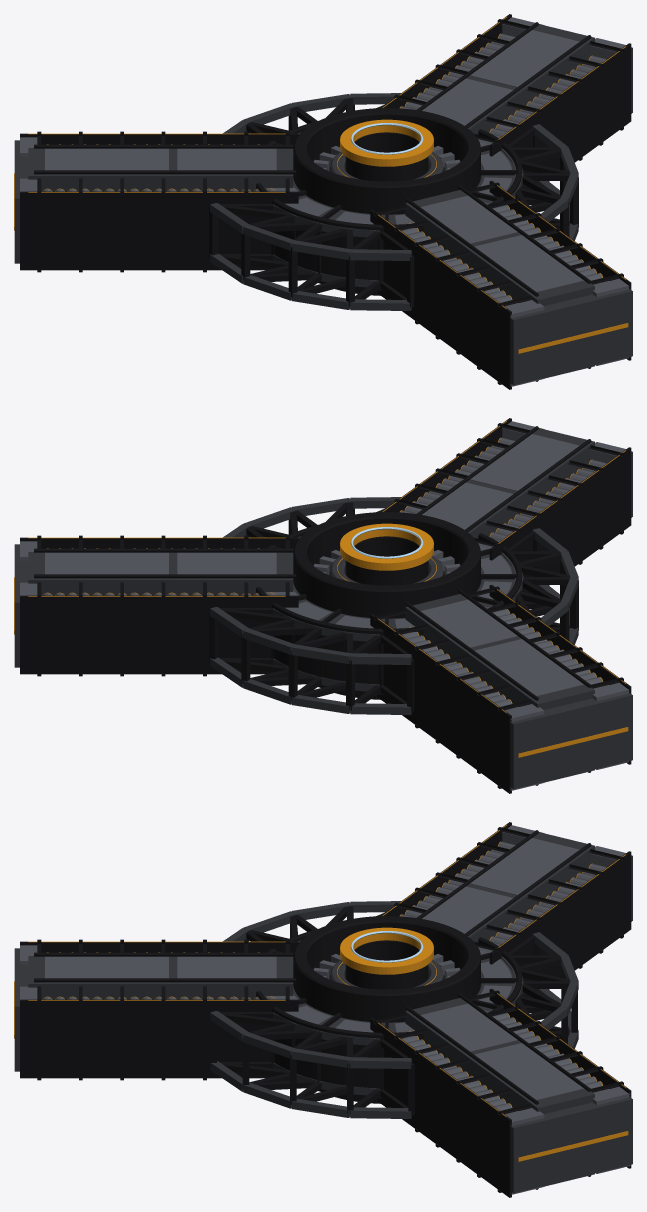
File: stellar_accelerator.obj
3 renders of one model, top to bottom at view 1: azimuth 30°, elevation 25°; view 2: azimuth 150°, elevation 25°; view 3: azimuth 270°, elevation 25°, orthographic.
Parts seen in each view (by area): view 1: SA_Arms__Arm2_Frame, SA_Arms__Arm1_Frame, SA_Arms__Arm3_Frame, SA_Hub__Hub_Collar, SA_Arms__Arm1_EndCap, SA_Trusses__Truss_1_Diagonals, SA_Arms__Arm1_Panels, SA_Arms__Arm3_Panels, SA_Arms__Arm2_Panels, SA_Trusses__Truss_1_Chords, SA_Arms__Arm2_Spine, SA_Hub__Hub_RimRing (+15 smaller); view 2: SA_Arms__Arm3_Frame, SA_Arms__Arm2_Frame, SA_Arms__Arm1_Frame, SA_Hub__Hub_Collar, SA_Arms__Arm2_EndCap, SA_Trusses__Truss_2_Diagonals, SA_Arms__Arm2_Panels, SA_Arms__Arm1_Panels, SA_Arms__Arm3_Panels, SA_Trusses__Truss_2_Chords, SA_Arms__Arm3_Spine, SA_Hub__Hub_RimRing (+15 smaller); view 3: SA_Arms__Arm1_Frame, SA_Arms__Arm3_Frame, SA_Arms__Arm2_Frame, SA_Hub__Hub_Collar, SA_Arms__Arm3_EndCap, SA_Trusses__Truss_3_Diagonals, SA_Arms__Arm3_Panels, SA_Arms__Arm2_Panels, SA_Arms__Arm1_Panels, SA_Trusses__Truss_3_Chords, SA_Arms__Arm1_Spine, SA_Hub__Hub_RimRing (+15 smaller).
Part boxes in pixels (x1=…): SA_Arms__Arm2_Frame: x1=20, y1=131, x2=298, y2=272; SA_Arms__Arm1_Frame: x1=370, y1=181, x2=631, y2=389; SA_Arms__Arm3_Frame: x1=381, y1=14, x2=631, y2=197; SA_Hub__Hub_Collar: x1=293, y1=108, x2=480, y2=295; SA_Arms__Arm1_EndCap: x1=510, y1=289, x2=632, y2=385; SA_Trusses__Truss_1_Diagonals: x1=209, y1=204, x2=414, y2=307; SA_Arms__Arm1_Panels: x1=420, y1=195, x2=628, y2=386; SA_Arms__Arm3_Panels: x1=422, y1=17, x2=625, y2=127; SA_Arms__Arm2_Panels: x1=20, y1=137, x2=276, y2=191; SA_Trusses__Truss_1_Chords: x1=210, y1=203, x2=411, y2=310; SA_Arms__Arm2_Spine: x1=28, y1=148, x2=293, y2=191; SA_Hub__Hub_RimRing: x1=256, y1=120, x2=522, y2=290; SA_Arms__Arm3_Frame: x1=20, y1=535, x2=298, y2=676; SA_Arms__Arm2_Frame: x1=370, y1=585, x2=631, y2=793; SA_Arms__Arm1_Frame: x1=381, y1=418, x2=631, y2=601; SA_Hub__Hub_Collar: x1=293, y1=512, x2=480, y2=699; SA_Arms__Arm2_EndCap: x1=510, y1=693, x2=632, y2=789; SA_Trusses__Truss_2_Diagonals: x1=209, y1=608, x2=414, y2=711; SA_Arms__Arm2_Panels: x1=420, y1=599, x2=628, y2=790; SA_Arms__Arm1_Panels: x1=422, y1=421, x2=625, y2=531; SA_Arms__Arm3_Panels: x1=20, y1=541, x2=276, y2=595; SA_Trusses__Truss_2_Chords: x1=210, y1=607, x2=411, y2=714; SA_Arms__Arm3_Spine: x1=28, y1=552, x2=293, y2=595; SA_Hub__Hub_RimRing: x1=256, y1=524, x2=522, y2=694; SA_Arms__Arm1_Frame: x1=20, y1=939, x2=298, y2=1080; SA_Arms__Arm3_Frame: x1=370, y1=989, x2=631, y2=1197; SA_Arms__Arm2_Frame: x1=381, y1=822, x2=631, y2=1005; SA_Hub__Hub_Collar: x1=293, y1=916, x2=480, y2=1103; SA_Arms__Arm3_EndCap: x1=510, y1=1097, x2=632, y2=1193; SA_Trusses__Truss_3_Diagonals: x1=210, y1=1012, x2=414, y2=1115; SA_Arms__Arm3_Panels: x1=420, y1=1003, x2=630, y2=1194; SA_Arms__Arm2_Panels: x1=422, y1=825, x2=625, y2=935; SA_Arms__Arm1_Panels: x1=20, y1=945, x2=276, y2=999; SA_Trusses__Truss_3_Chords: x1=210, y1=1011, x2=411, y2=1118; SA_Arms__Arm1_Spine: x1=28, y1=956, x2=293, y2=999; SA_Hub__Hub_RimRing: x1=256, y1=928, x2=522, y2=1098.
Bounding box in the file's own units: 25883 × 5118 × 22435.
